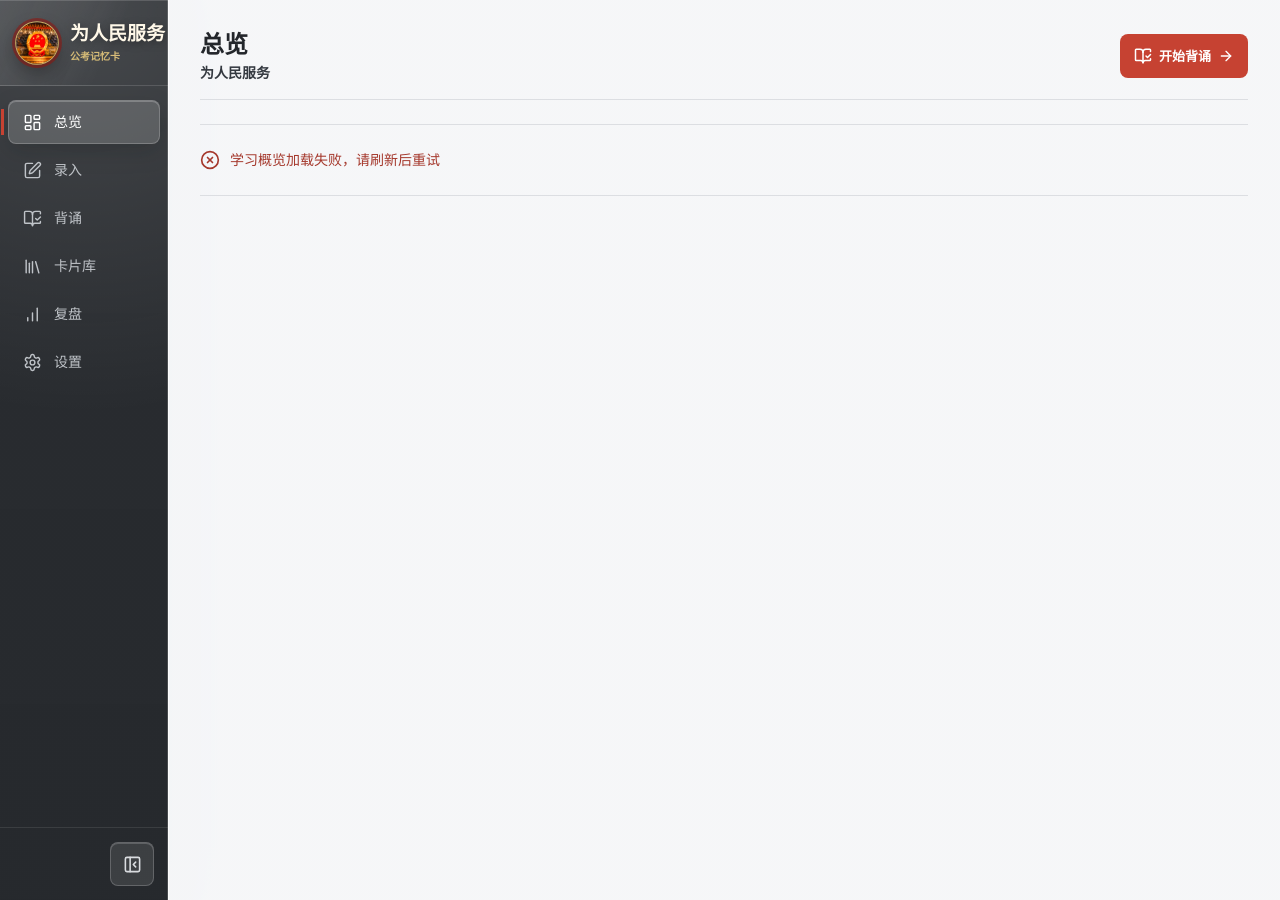
Test: 桌面工作台 › 折叠侧栏时隐藏可见文字但保留导航可访问名称
This screenshot has width=1280, height=900.
Click the button named "折叠侧栏": (132, 864) [110, 842, 154, 886]
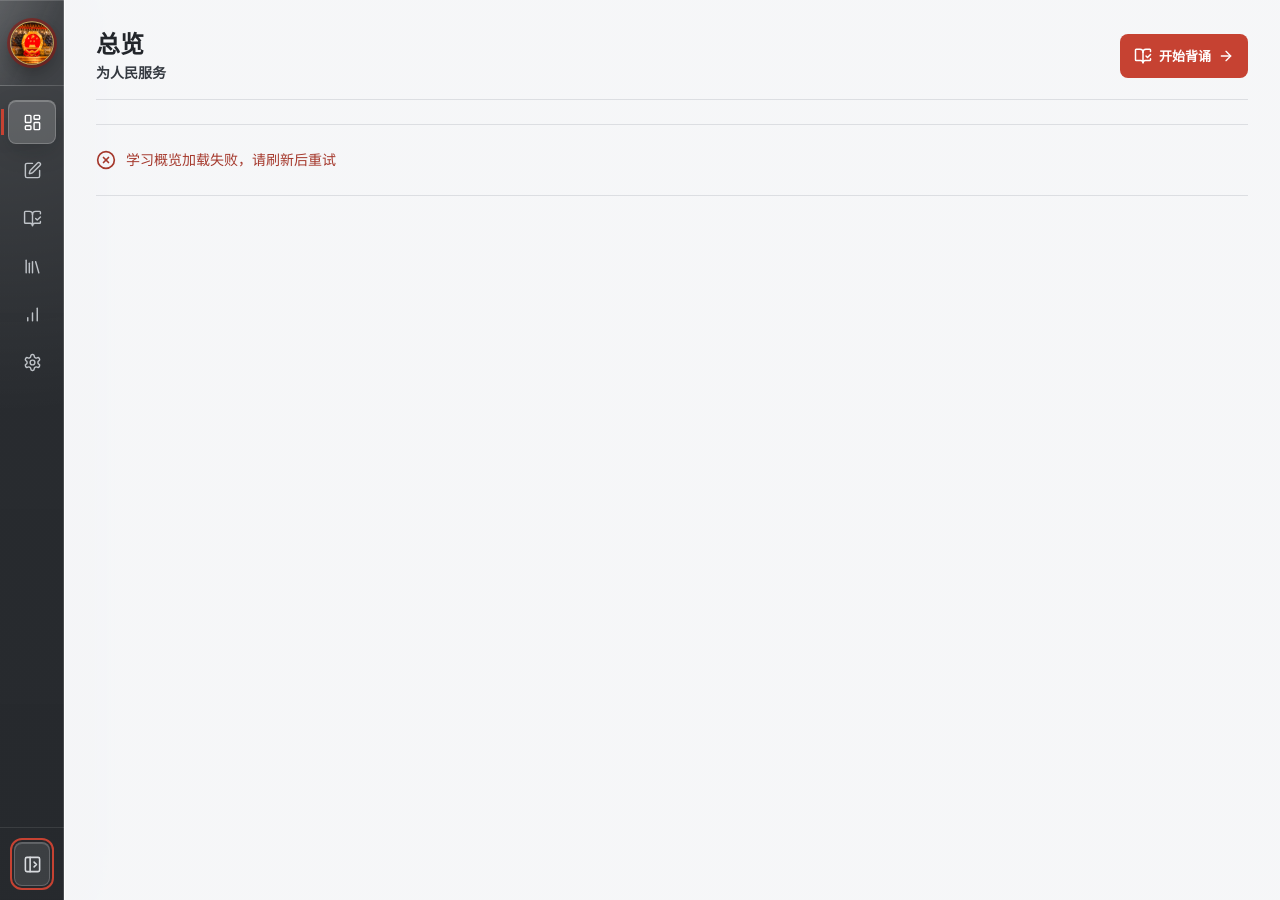
Expected: the button named "展开侧栏" is collapsed, [14, 842, 50, 886]
Expected: the element with class "app-shell__brand-copy" is gone
Expected: the text with class "app-shell__nav-label" is gone
